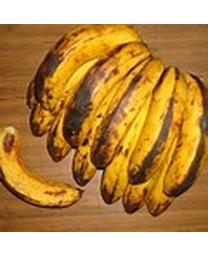banana: (25, 25, 207, 218), (0, 124, 84, 208)
